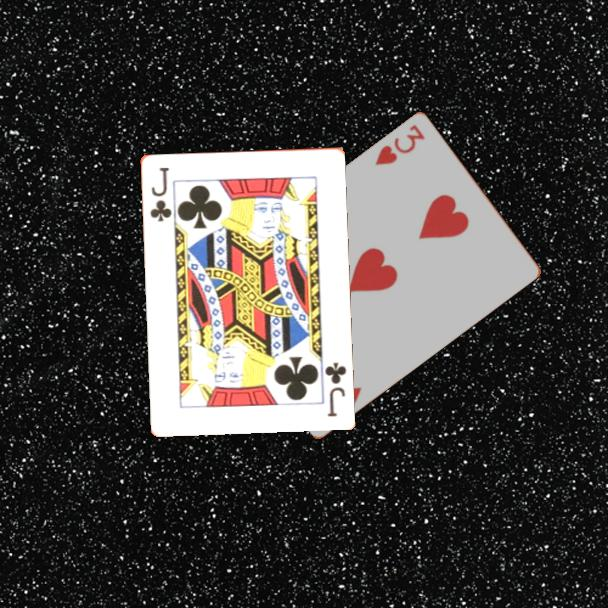c11: (146, 163, 174, 224), (321, 358, 349, 419)
h03: (372, 120, 428, 168)
